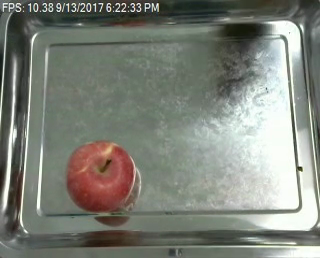Apple: (63, 138, 138, 213)
